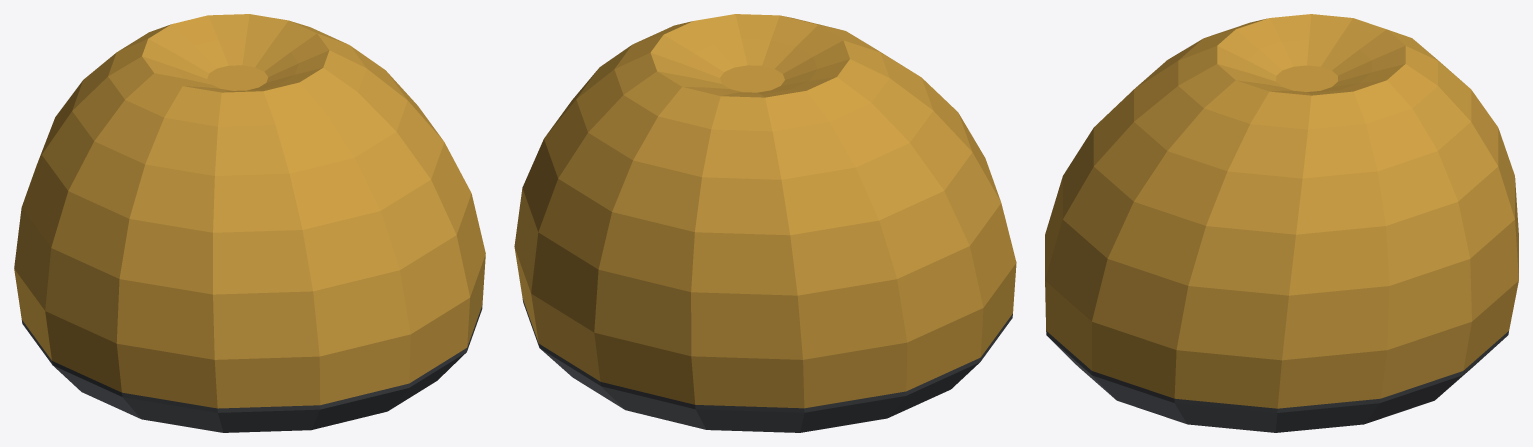
File: FN_Chair_Bean.obj
The picture shows the model from 3 angles, left to right: view 1: azimuth 30°, elevation 25°; view 2: azimuth 150°, elevation 25°; view 3: azimuth 270°, elevation 25°; orthographic projection. The views are drawn at different scales.
Visible parts, largest first — view 1: FN_Chair_Bean; view 2: FN_Chair_Bean; view 3: FN_Chair_Bean.
Part boxes in pixels (box(x1,y1,x2,y2)): FN_Chair_Bean: box(14, 14, 485, 432); FN_Chair_Bean: box(514, 14, 1016, 432); FN_Chair_Bean: box(1045, 14, 1518, 432).
Size of the model in its own units: 0.956 by 0.64 by 0.932.
1 material, 1 textured.
